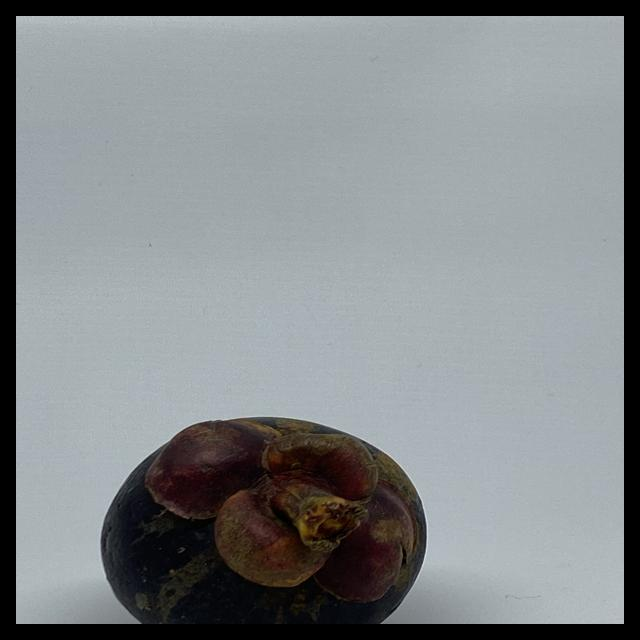mangosteen: (96, 406, 438, 624)
